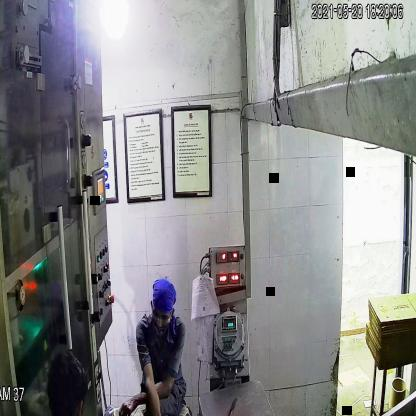goggles: (148, 301, 174, 328)
